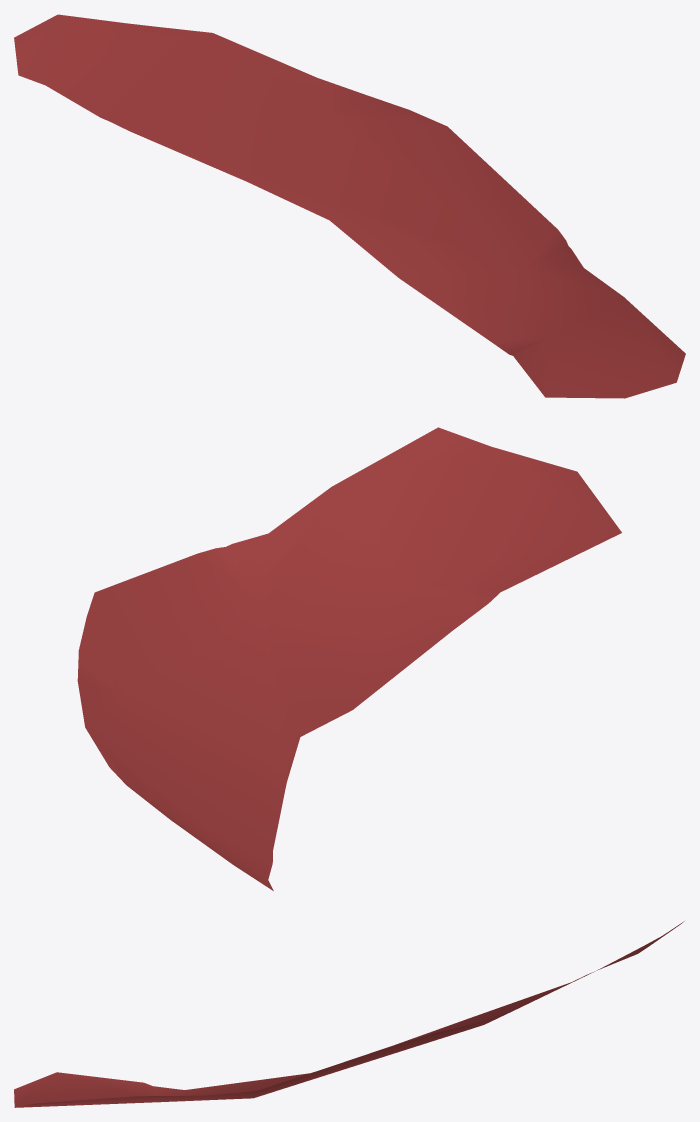
Rendered from obliquus-superior-capitis-muscle-ol.glb.
The picture shows the model from 3 angles, top to bottom: view 1: azimuth 30°, elevation 25°; view 2: azimuth 150°, elevation 25°; view 3: azimuth 270°, elevation 25°; orthographic projection. The views are drawn at different scales.
Visible parts, largest first — view 1: Obliquus superior capitis muscle.ol; view 2: Obliquus superior capitis muscle.ol; view 3: Obliquus superior capitis muscle.ol.
Boxes of the visible parts, x1=… form: Obliquus superior capitis muscle.ol: x1=14, y1=14, x2=685, y2=398; Obliquus superior capitis muscle.ol: x1=77, y1=427, x2=621, y2=890; Obliquus superior capitis muscle.ol: x1=14, y1=921, x2=684, y2=1107.
Bounding box in the file's own units: 0.0139 × 0.0063 × 0.0338.
